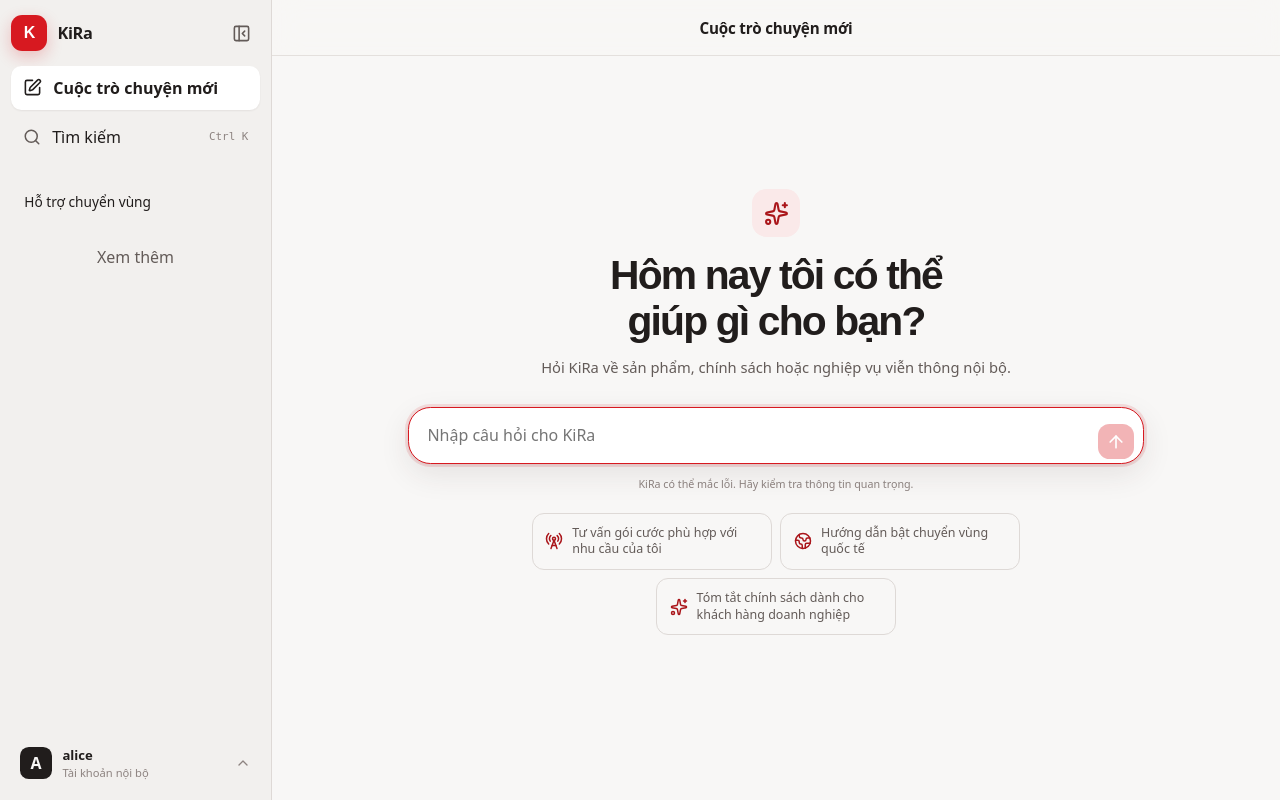
Test case: conversation management UI › paginates the sidebar without duplicating conversations
This screenshot has width=1280, height=800.
Check: the text "Hỗ trợ chuyển vùng" is shown, box [24,192,151,211]
Click the button "Xem thêm": (136,257) [84,238,187,276]
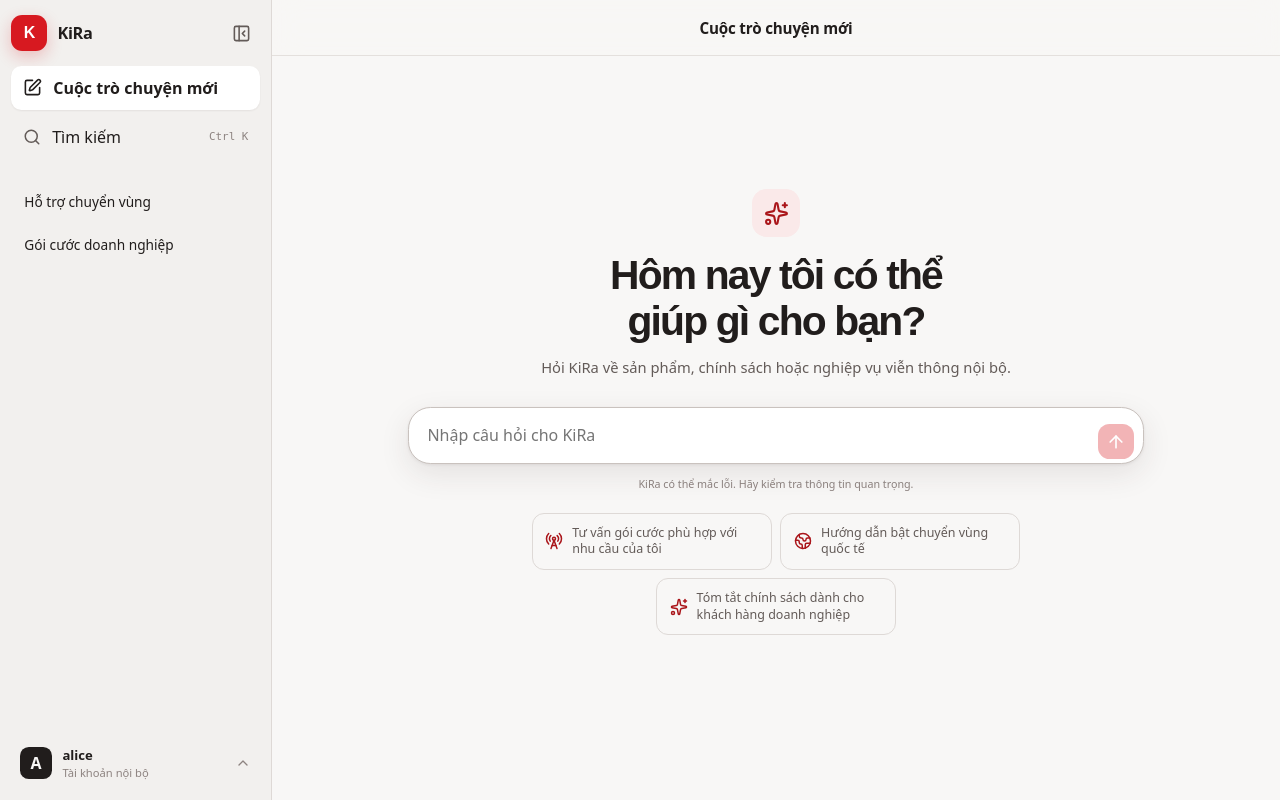
Check: the text "Gói cước doanh nghiệp" is shown, box [24,235,174,254]
Check: the text "Hỗ trợ chuyển vùng" is shown once, box [24,192,151,211]
